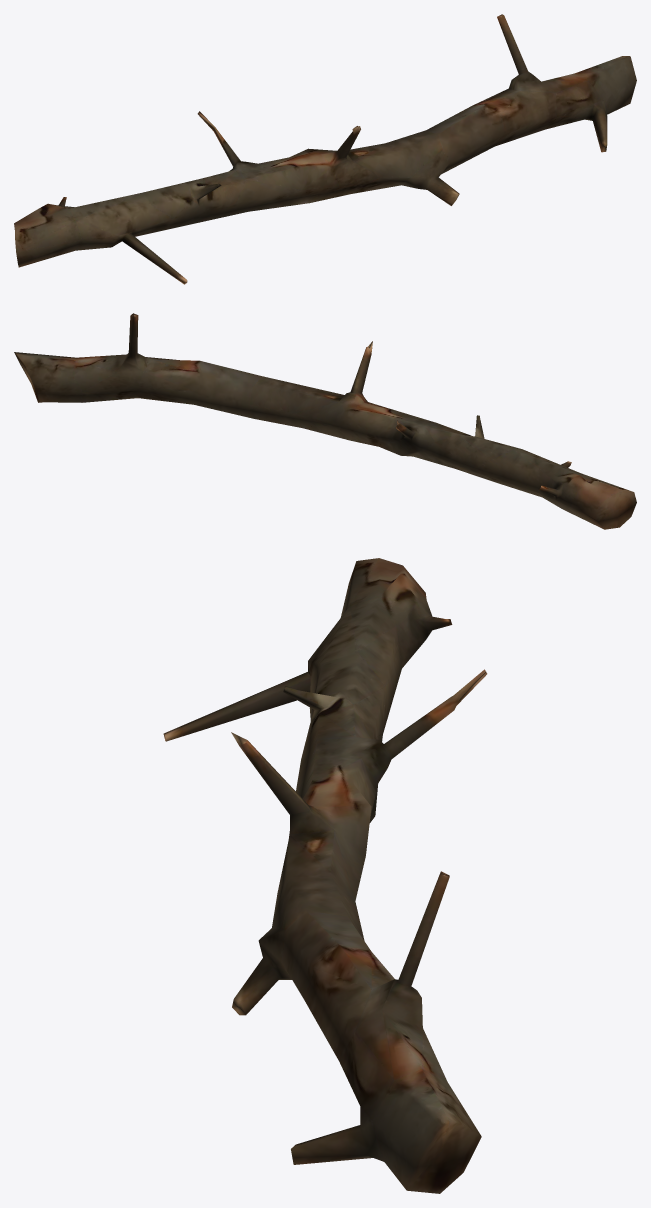
Rendered from club_ground_f.glb.
3 renders of one model, top to bottom at view 1: azimuth 30°, elevation 25°; view 2: azimuth 150°, elevation 25°; view 3: azimuth 270°, elevation 25°, orthographic. The views are drawn at different scales.
Parts seen in each view (by area): view 1: geometry_0; view 2: geometry_0; view 3: geometry_0.
Part boxes in pixels (box(x1,y1,x2,y2)): geometry_0: box(14, 14, 636, 284); geometry_0: box(14, 313, 636, 529); geometry_0: box(163, 558, 487, 1193).
Size of the model in its own units: 0.3987 by 0.0752 by 0.0932.
1 material, 1 textured.
